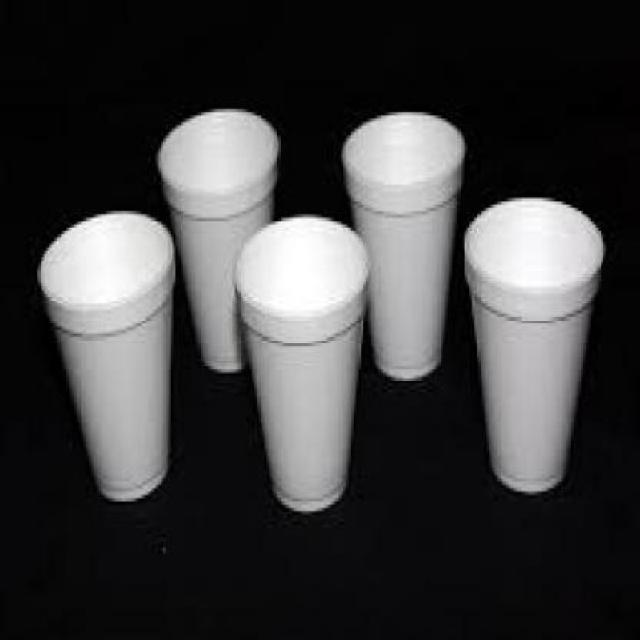PAPER: (469, 192, 608, 492), (39, 208, 178, 498), (238, 210, 370, 508), (346, 106, 469, 380), (162, 102, 282, 370)
